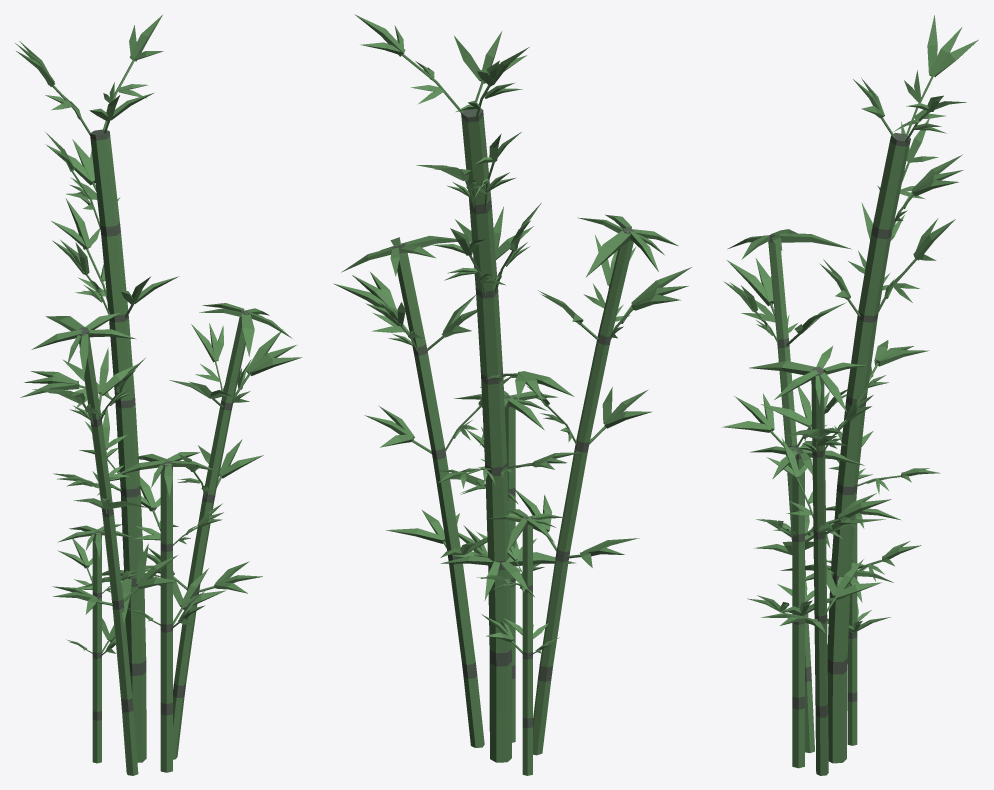
3 renders of one model, left to right at view 1: azimuth 30°, elevation 25°; view 2: azimuth 150°, elevation 25°; view 3: azimuth 270°, elevation 25°, orthographic. The views are drawn at different scales.
Parts seen in each view (by area): view 1: bamboo30; view 2: bamboo30; view 3: bamboo30.
Boxes of the visible parts, x1,y1,x2,y2 form: bamboo30: (15, 15, 302, 775); bamboo30: (333, 14, 691, 775); bamboo30: (721, 15, 978, 775).
Bounding box in the file's own units: 149 × 348 × 115.
